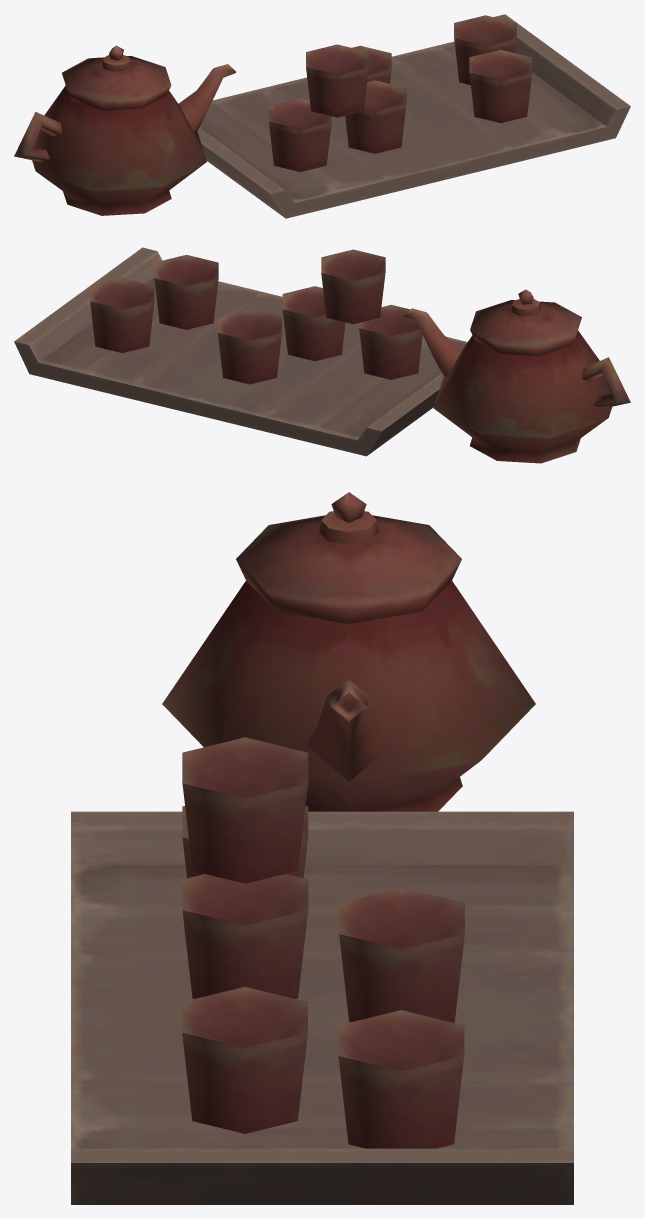
Rendered from Homeworld_Interior_Cyg_Decoration_Prop_Chahu_01_Vo.fbx.
The picture shows the model from 3 angles, top to bottom: view 1: azimuth 30°, elevation 25°; view 2: azimuth 150°, elevation 25°; view 3: azimuth 270°, elevation 25°; orthographic projection. The views are drawn at different scales.
Parts seen in each view (by area): view 1: Area_Cyg_Prop_QYZ_Chahu_01_Vo; view 2: Area_Cyg_Prop_QYZ_Chahu_01_Vo; view 3: Area_Cyg_Prop_QYZ_Chahu_01_Vo.
Boxes of the visible parts, left/top/right/bottom form: Area_Cyg_Prop_QYZ_Chahu_01_Vo: left=14, top=14, right=630, bottom=218; Area_Cyg_Prop_QYZ_Chahu_01_Vo: left=14, top=247, right=630, bottom=463; Area_Cyg_Prop_QYZ_Chahu_01_Vo: left=71, top=492, right=573, bottom=1204.
Bounding box in the file's own units: 1.03 × 0.264 × 0.4092.
